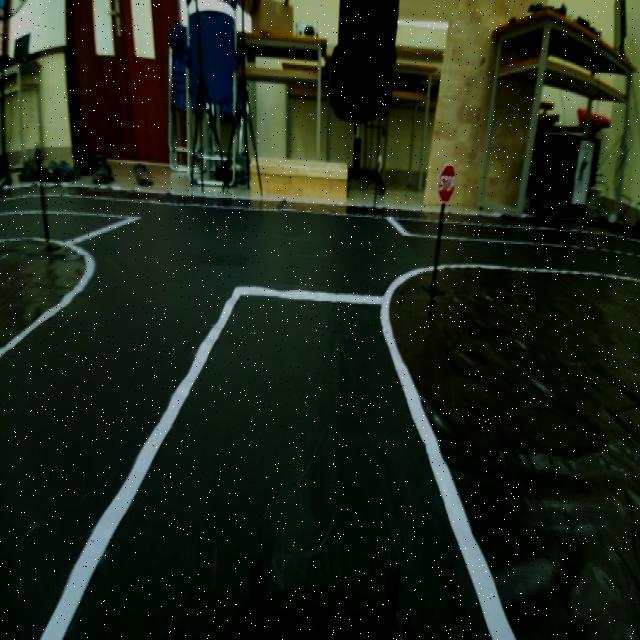stop: (435, 151, 460, 207)
